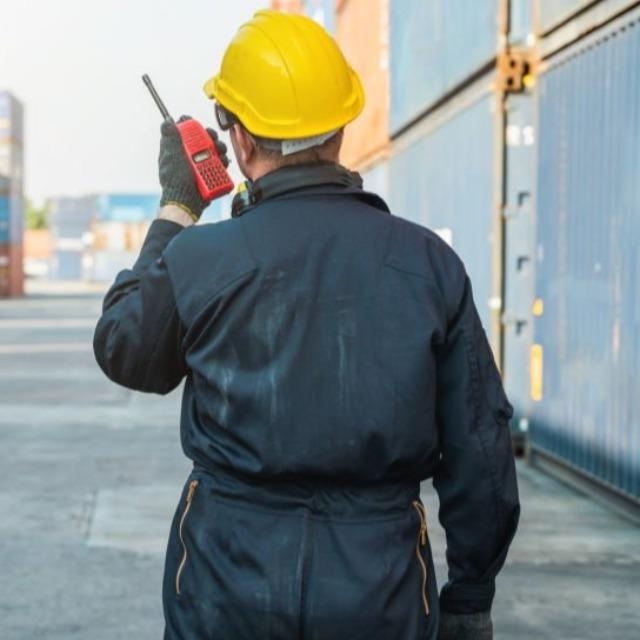Con_Casco: (202, 7, 365, 182)
Sin_Chaleco: (170, 197, 465, 523)
